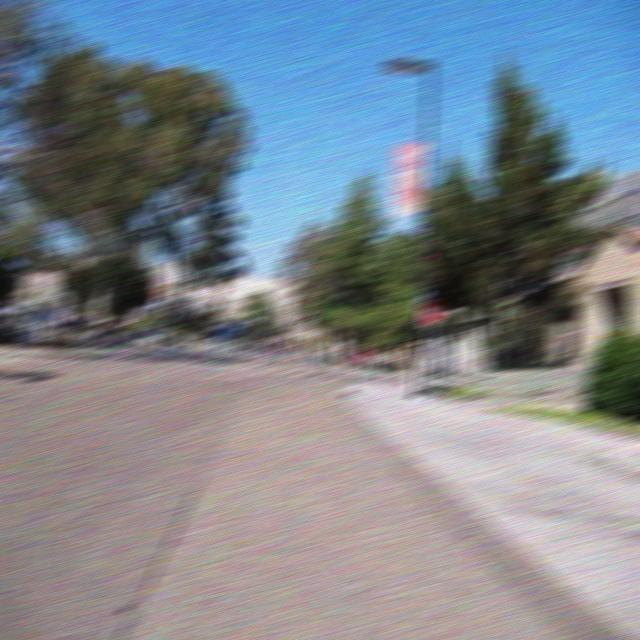stop_sign: (419, 298, 445, 325)
